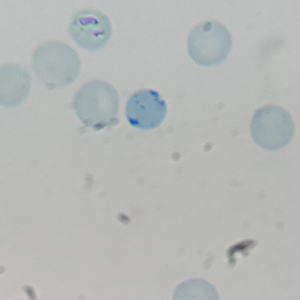aggregate reticulocyte: (124, 88, 169, 131)
erythrocyte: (30, 40, 82, 90), (72, 79, 122, 131), (185, 19, 233, 68), (248, 104, 296, 151), (67, 8, 114, 52)
